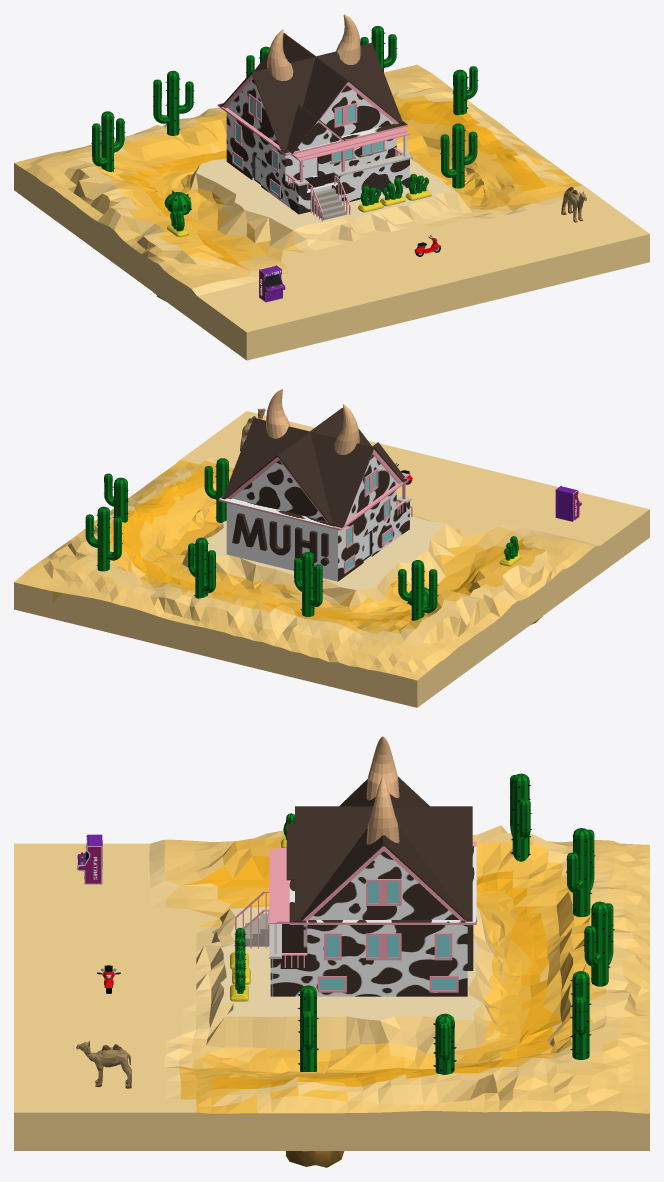
3 renders of one model, top to bottom at view 1: azimuth 30°, elevation 25°; view 2: azimuth 150°, elevation 25°; view 3: azimuth 270°, elevation 25°, orthographic. The views are drawn at different scales.
Visible parts, largest first — view 1: Cube.001, Cube.1242, Cylinder.044, Cylinder.037, Cylinder.045, Cylinder.038, OBJRANDOM_ARCADE, Cylinder.042, ANIMAL_CAMELLO, Cylinder.041, Cylinder.039; view 2: Cube.001, Cube.1242, Cylinder.042, Cylinder.045, Cylinder.044, Cylinder.043, Cylinder.037, Cylinder.038, OBJRANDOM_ARCADE; view 3: Cube.001, Cube.1242, Cylinder.043, Cylinder.044, Cylinder.045, Cylinder.042, Cylinder.037, Cylinder.038, ANIMAL_CAMELLO, OBJRANDOM_ARCADE, UNDERGROUND_T_REX_BONES.
Part boxes in pixels (x1,y1,x2,y2): Cube.001: [14, 64, 649, 360]; Cube.1242: [217, 14, 412, 221]; Cylinder.044: [153, 70, 194, 135]; Cylinder.037: [440, 123, 477, 188]; Cylinder.045: [91, 111, 125, 171]; Cylinder.038: [452, 66, 478, 115]; OBJRANDOM_ARCADE: [259, 265, 285, 302]; Cylinder.042: [360, 26, 397, 72]; ANIMAL_CAMELLO: [561, 187, 586, 222]; Cylinder.041: [405, 173, 431, 200]; Cylinder.039: [358, 185, 383, 212]; Cube.001: [14, 411, 649, 707]; Cube.1242: [218, 389, 412, 581]; Cylinder.042: [85, 506, 122, 571]; Cylinder.045: [398, 560, 438, 620]; Cylinder.044: [294, 552, 322, 616]; Cylinder.043: [187, 537, 215, 598]; Cylinder.037: [204, 458, 233, 522]; Cylinder.038: [104, 473, 128, 522]; OBJRANDOM_ARCADE: [555, 485, 581, 521]; Cube.001: [14, 825, 649, 1150]; Cube.1242: [235, 736, 476, 996]; Cylinder.043: [583, 901, 614, 986]; Cylinder.044: [566, 828, 595, 916]; Cylinder.045: [510, 773, 531, 861]; Cylinder.042: [570, 971, 591, 1059]; Cylinder.037: [297, 985, 318, 1071]; Cylinder.038: [433, 1013, 456, 1074]; ANIMAL_CAMELLO: [76, 1040, 131, 1088]; OBJRANDOM_ARCADE: [77, 834, 102, 884]; UNDERGROUND_T_REX_BONES: [285, 1151, 344, 1167].
Bounding box in the file's own units: 4002 × 1999 × 4001.
Materials: 41 (2 with a texture image).
